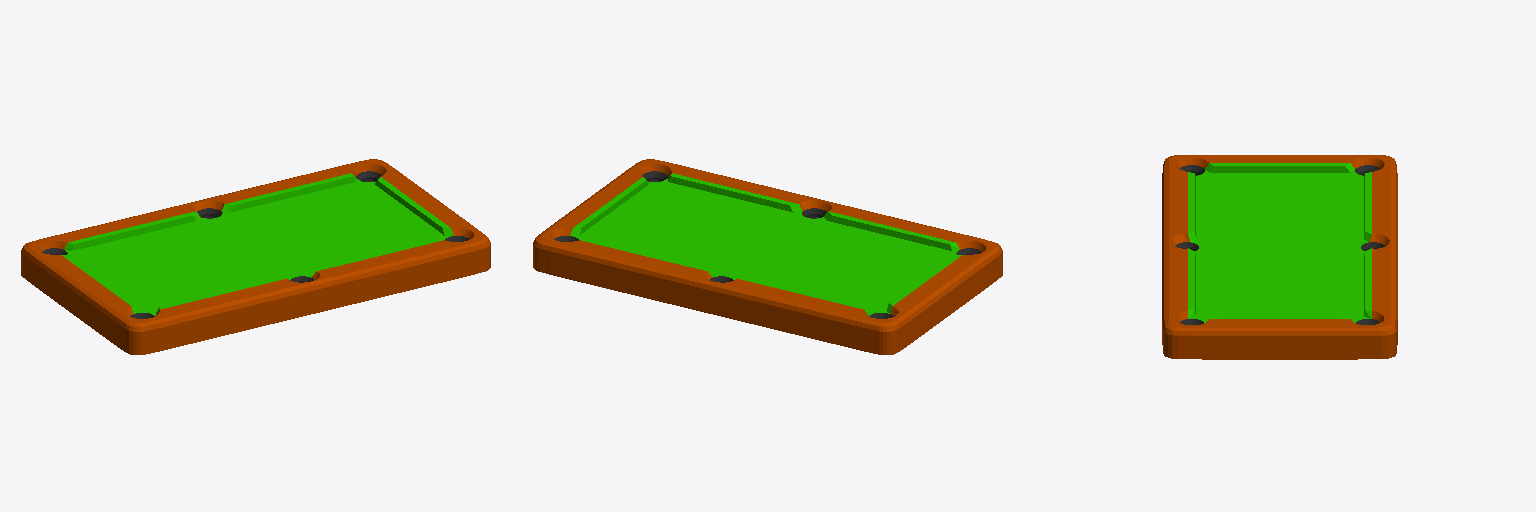
The picture shows the model from 3 angles: view 1: azimuth 30°, elevation 25°; view 2: azimuth 150°, elevation 25°; view 3: azimuth 270°, elevation 25°; orthographic projection.
Parts seen in each view (by area): view 1: Cube.001_Cube; view 2: Cube.001_Cube; view 3: Cube.001_Cube.
Part boxes in pixels (x1,y1,x2,y2): Cube.001_Cube: (21, 159, 490, 354); Cube.001_Cube: (533, 159, 1002, 354); Cube.001_Cube: (1162, 155, 1397, 359).
Size of the model in its own units: 7.19 by 0.5531 by 4.02.
1 materials, 1 textured.